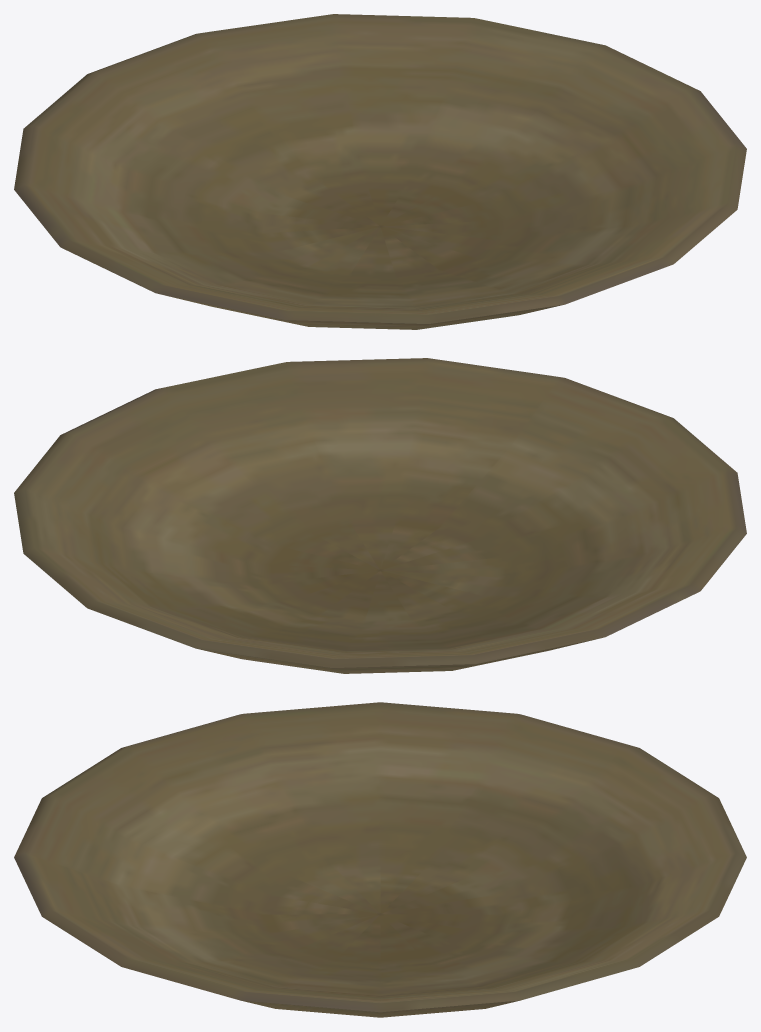
The model's file is Tableware_SmallPlate01.fbx.
The picture shows the model from 3 angles, top to bottom: view 1: azimuth 30°, elevation 25°; view 2: azimuth 150°, elevation 25°; view 3: azimuth 270°, elevation 25°; orthographic projection.
Visible parts, largest first — view 1: Tableware_SmallPlate01; view 2: Tableware_SmallPlate01; view 3: Tableware_SmallPlate01.
Part boxes in pixels (<box>): Tableware_SmallPlate01: <box>14,14,746,329</box>; Tableware_SmallPlate01: <box>14,358,746,673</box>; Tableware_SmallPlate01: <box>14,702,746,1017</box>.
Size of the model in its own units: 9.9 by 1.37 by 9.9.
